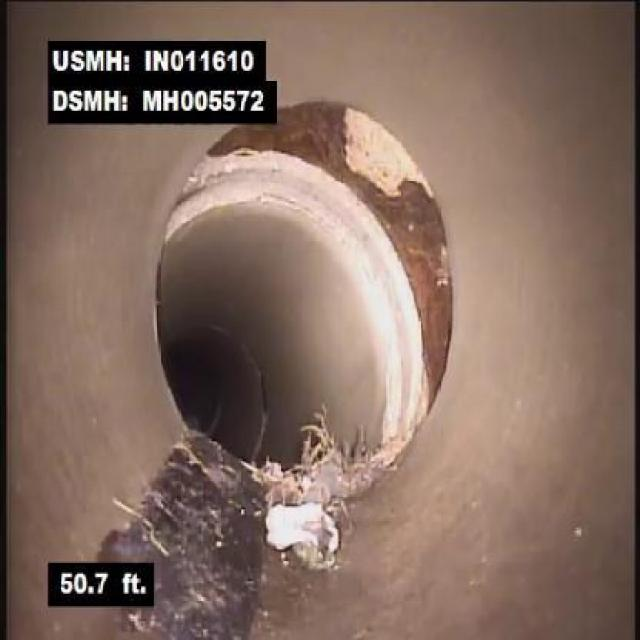Hole: (363, 120, 462, 442), (203, 102, 363, 189)
